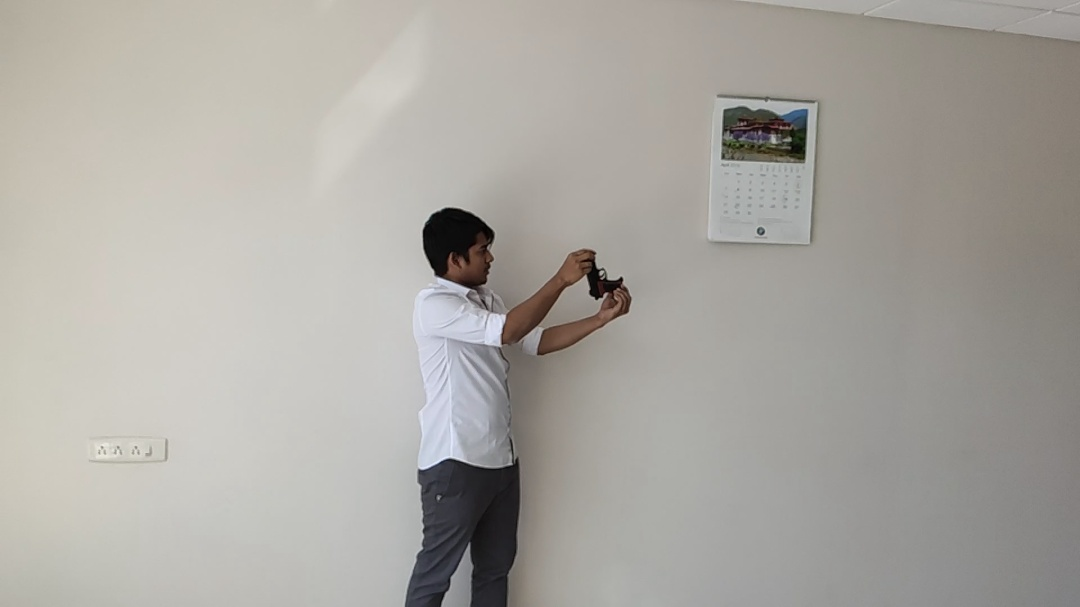gun: (587, 275, 625, 301)
